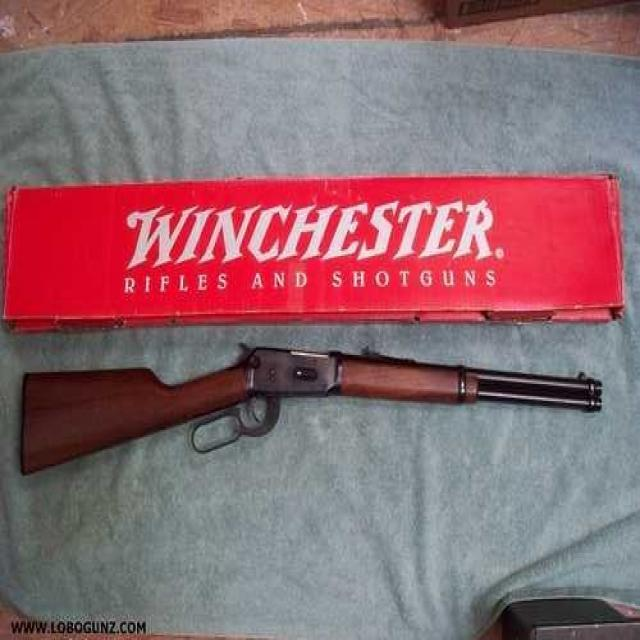weapon: (17, 312, 624, 507)
